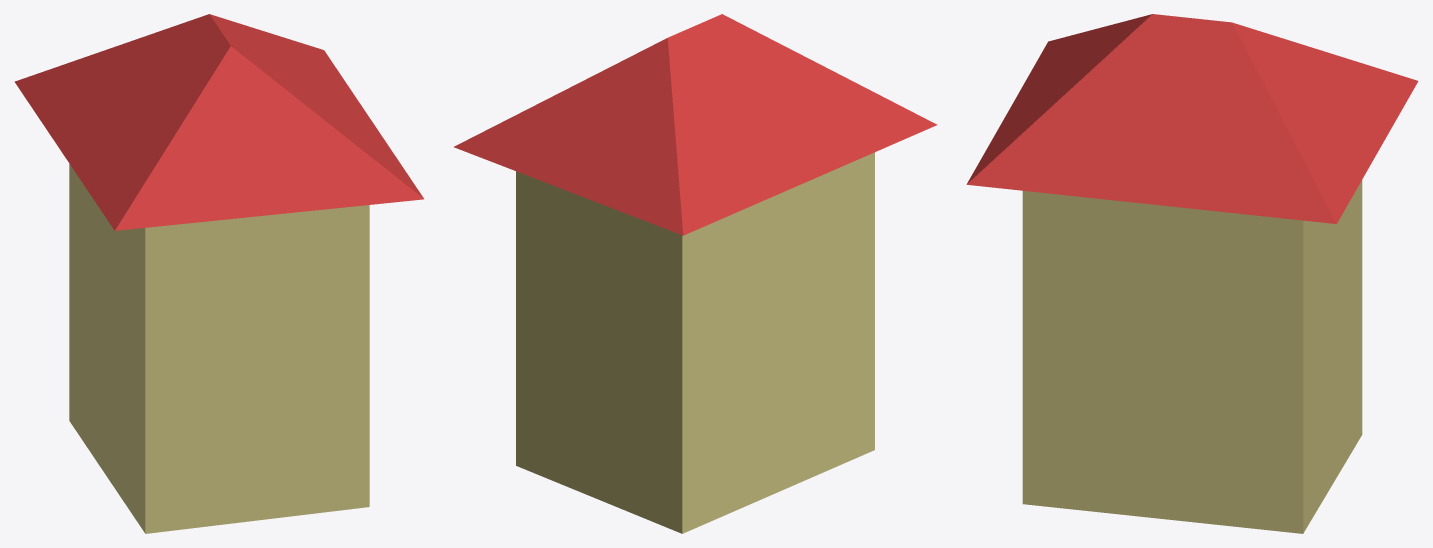
The picture shows the model from 3 angles, left to right: view 1: azimuth 30°, elevation 25°; view 2: azimuth 150°, elevation 25°; view 3: azimuth 270°, elevation 25°; orthographic projection. The views are drawn at different scales.
Bounding box in the file's own units: 6.77 × 7.32 × 8.07.
